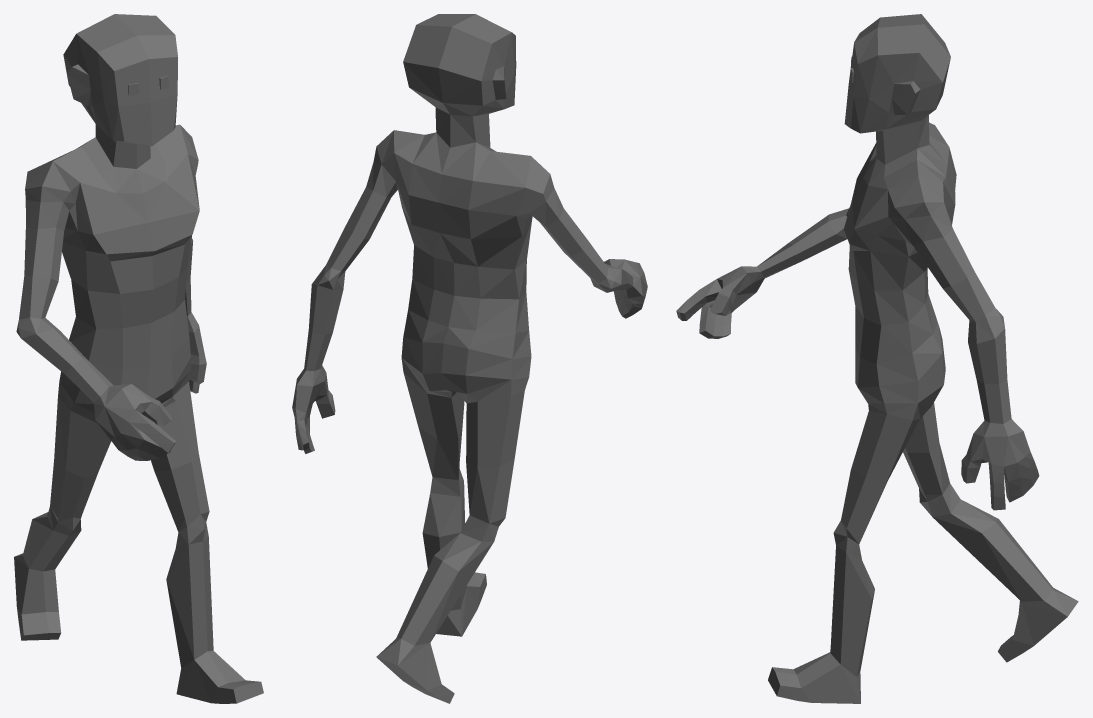
Rendered from SM_Gen_Prop_Statue_03.glb.
The picture shows the model from 3 angles, left to right: view 1: azimuth 30°, elevation 25°; view 2: azimuth 150°, elevation 25°; view 3: azimuth 270°, elevation 25°; orthographic projection. The views are drawn at different scales.
Parts seen in each view (by area): view 1: SM_Gen_Prop_Statue_03; view 2: SM_Gen_Prop_Statue_03; view 3: SM_Gen_Prop_Statue_03.
Boxes of the visible parts, x1=… form: SM_Gen_Prop_Statue_03: x1=14, y1=14, x2=263, y2=703; SM_Gen_Prop_Statue_03: x1=292, y1=14, x2=647, y2=703; SM_Gen_Prop_Statue_03: x1=676, y1=14, x2=1078, y2=703.
Bounding box in the file's own units: 0.722 × 1.78 × 0.9915.
1 material, 1 textured.
